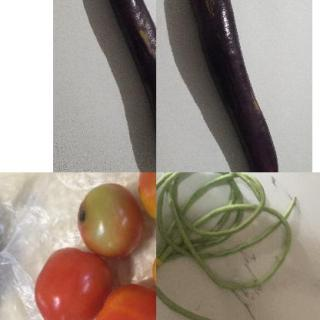Tomat: (29, 174, 156, 320)
